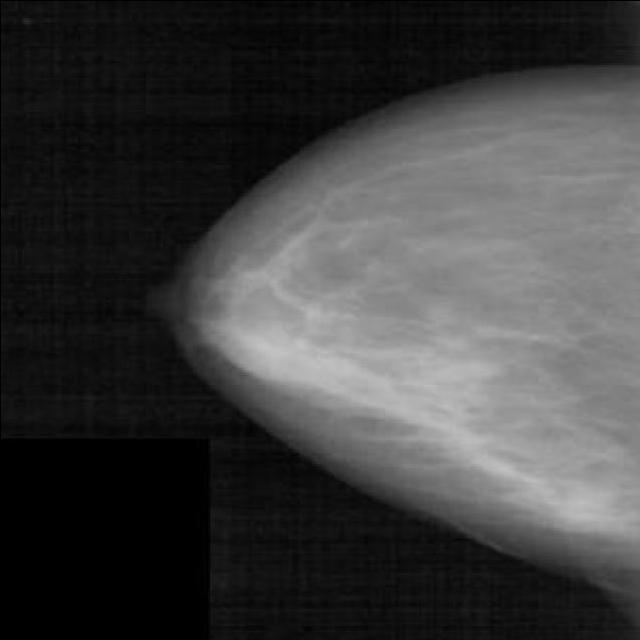tumor: (196, 243, 371, 440)
